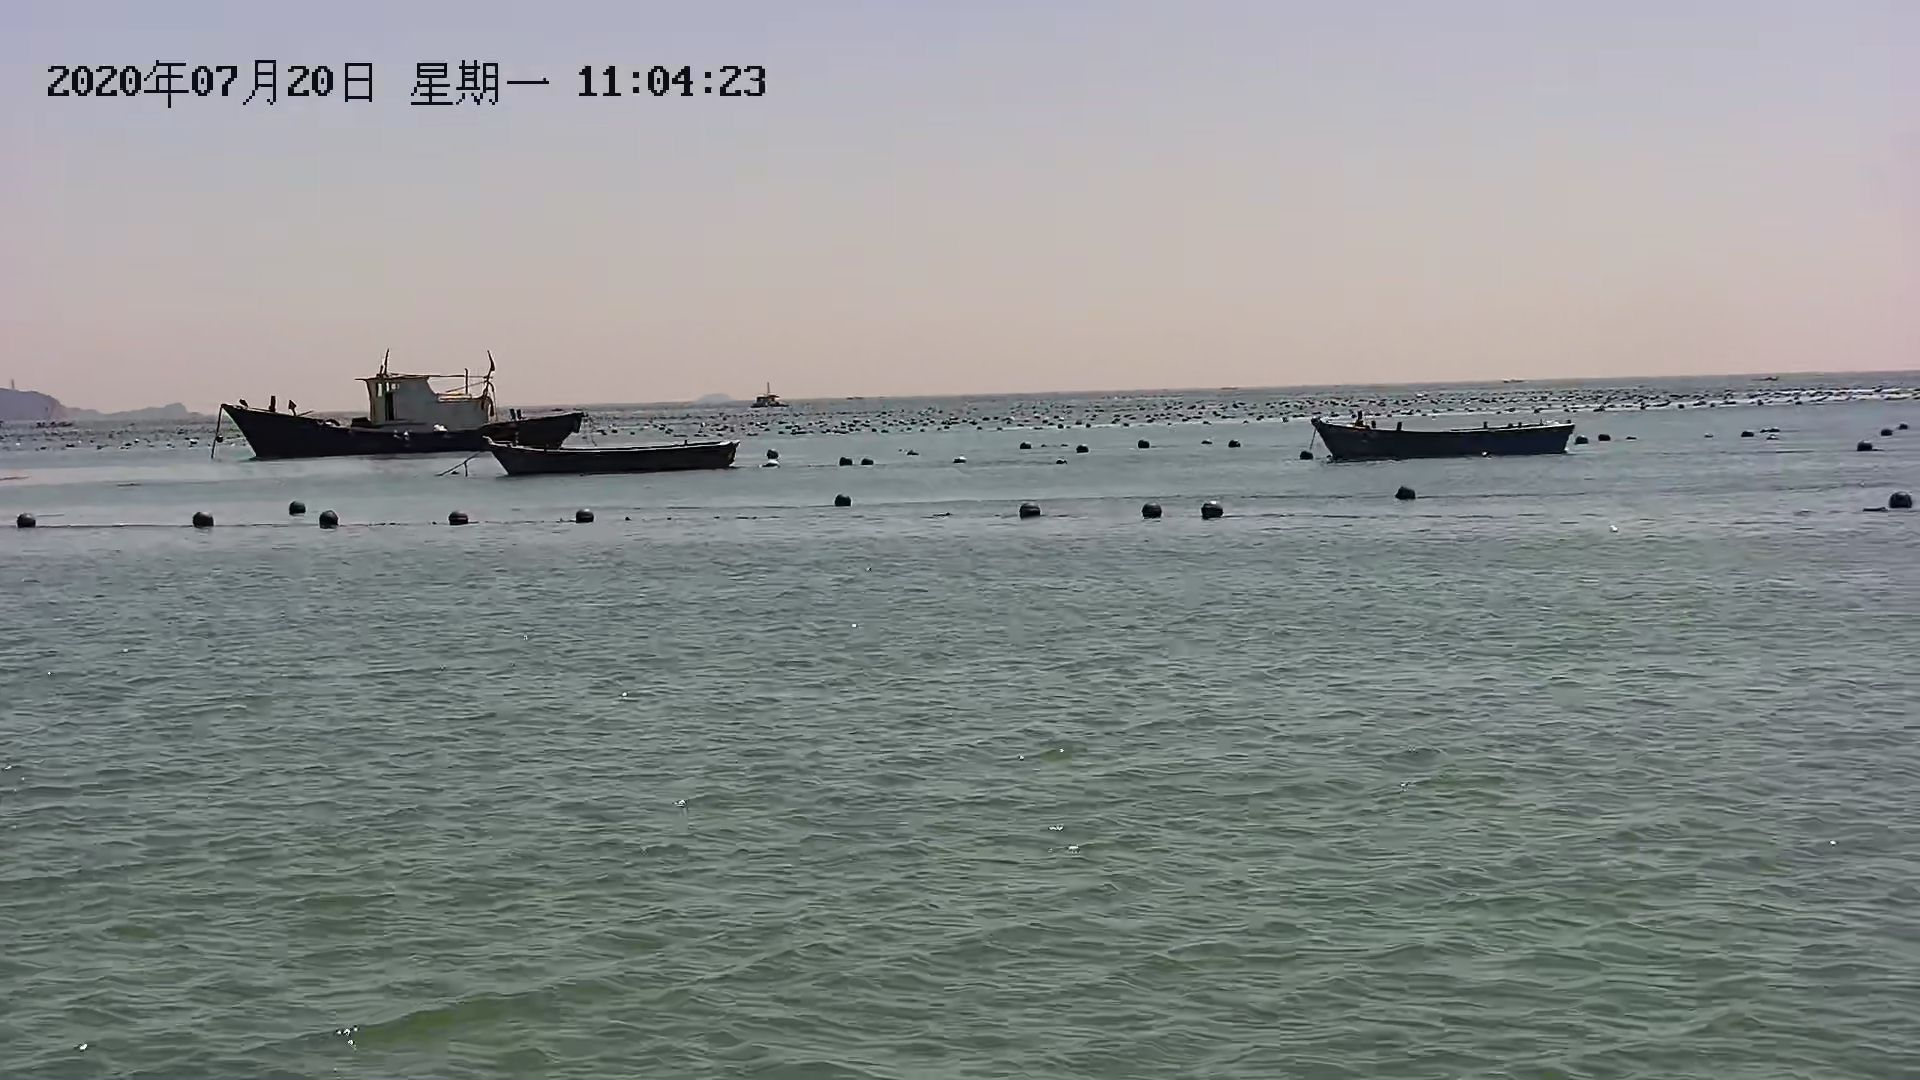ball: (310, 508, 343, 525), (440, 506, 473, 524), (572, 509, 605, 526), (831, 493, 864, 510), (1009, 498, 1042, 516), (1139, 500, 1172, 517), (1189, 501, 1222, 518), (1385, 483, 1418, 500), (1884, 492, 1917, 509), (196, 512, 223, 529), (284, 496, 310, 513), (15, 516, 41, 531)
boat: (1315, 421, 1584, 454), (477, 442, 746, 471)
ship: (220, 372, 580, 463)
